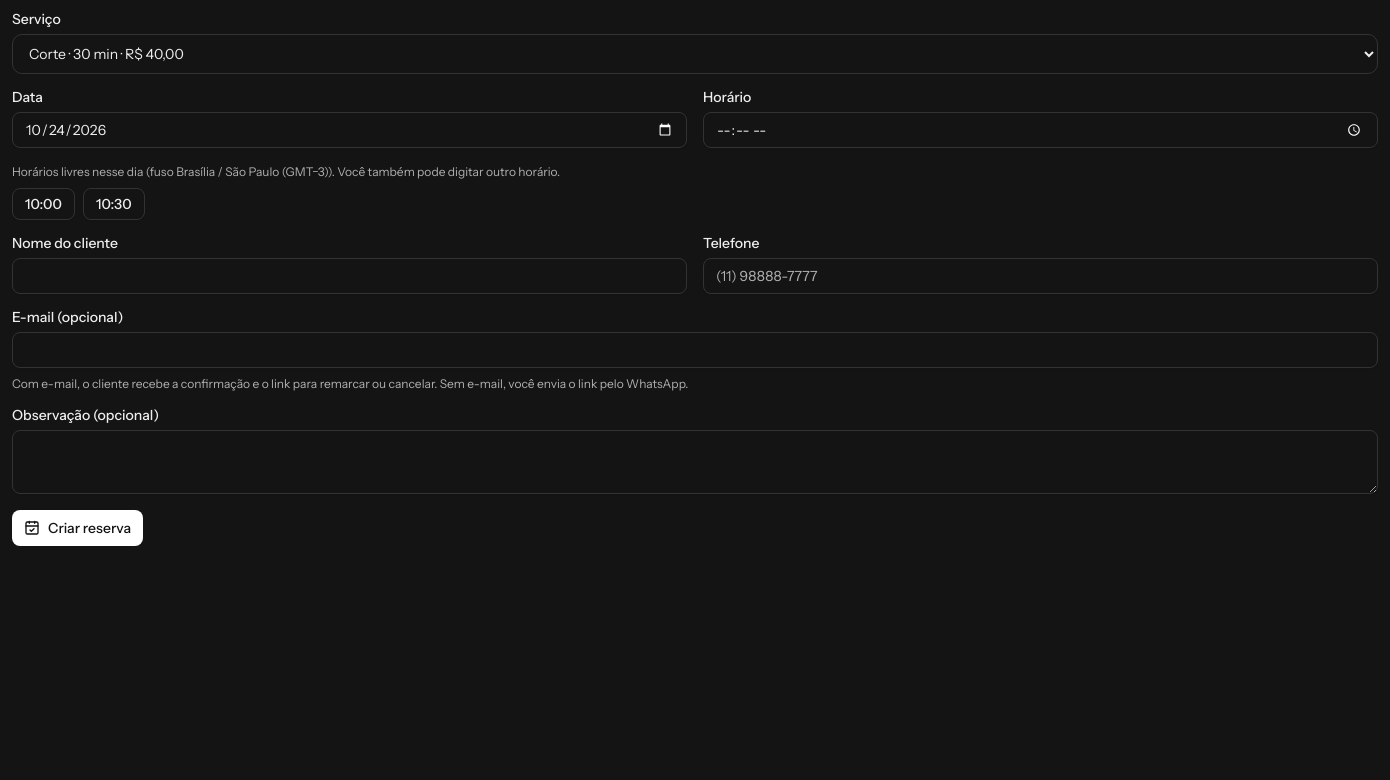
Scenario: nova reserva pelo painel (#193) › preenche o horário com um horário livre do dia
Click the button "10:30": (114, 204) [83, 188, 144, 220]
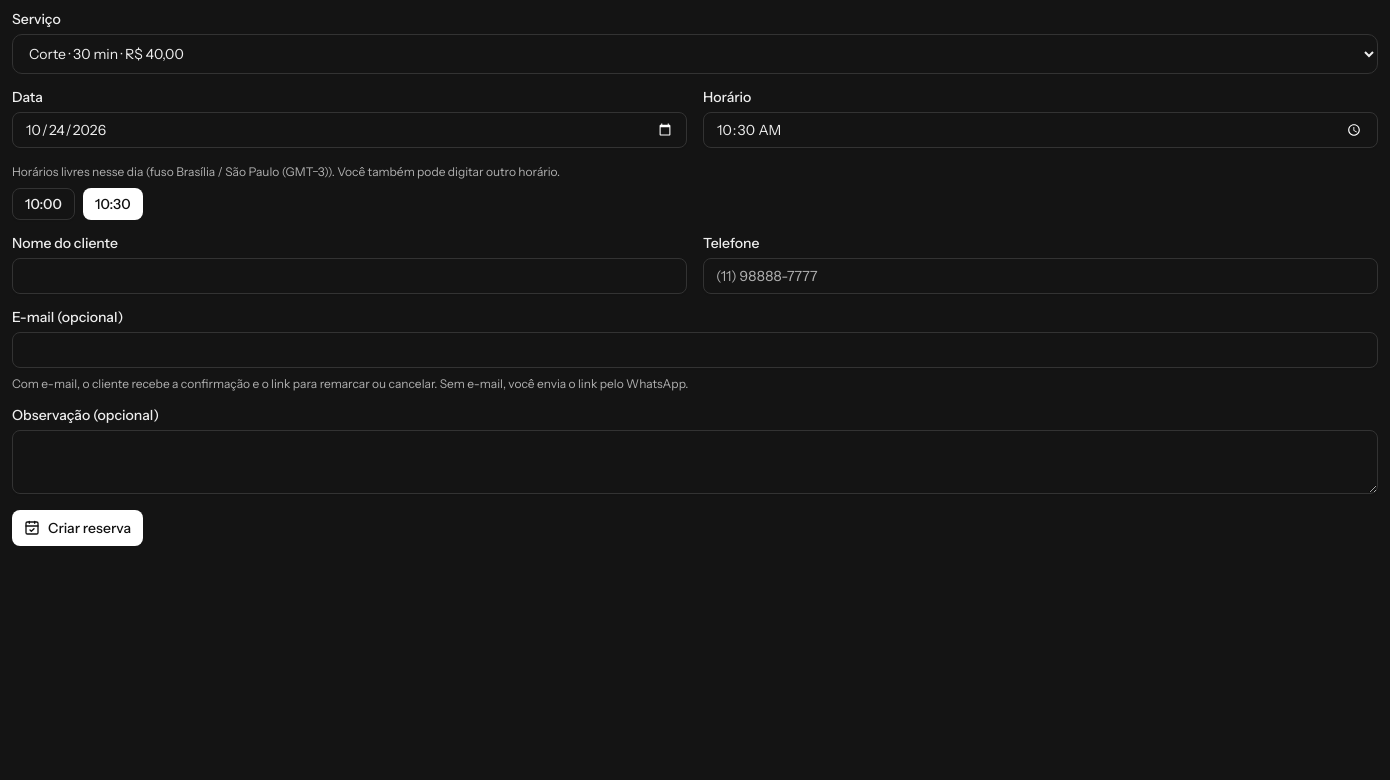
Expected: the time field labelled "Horário" holds "10:30", [703, 112, 1378, 148]
